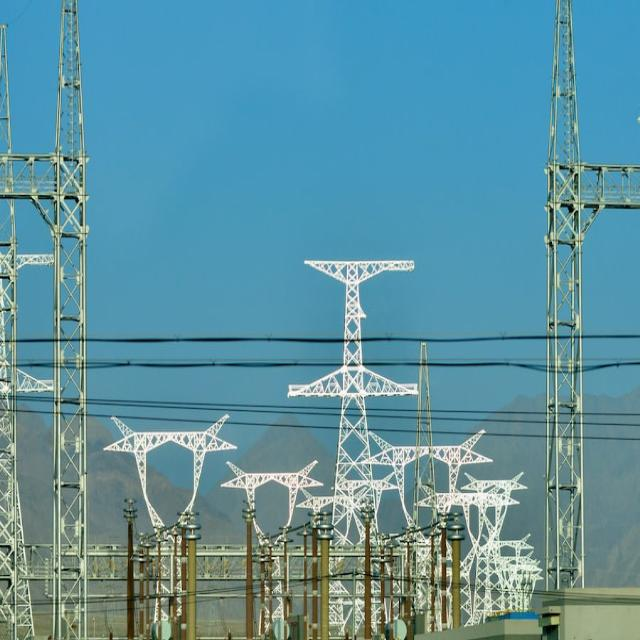transmission tower: (489, 0, 615, 574), (275, 173, 410, 544), (97, 372, 227, 538)
